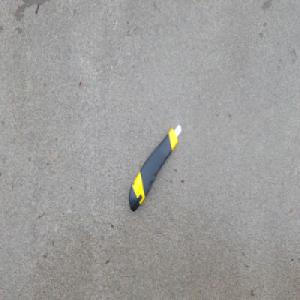Cutter: (128, 121, 182, 212)
